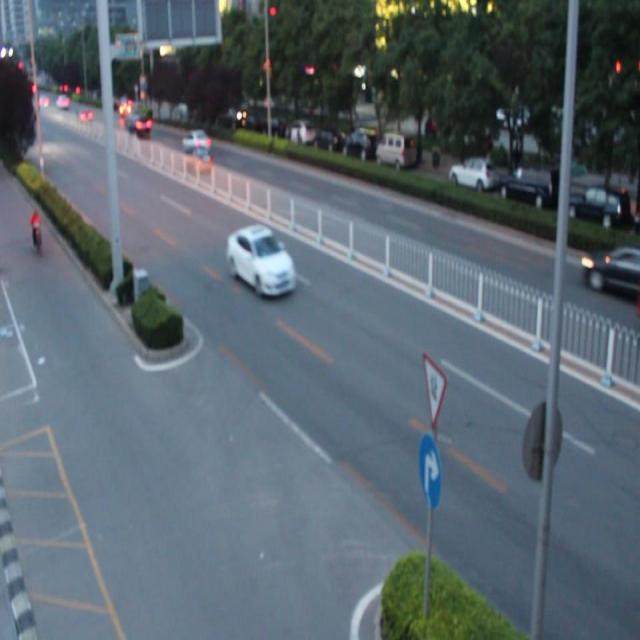car: (226, 231, 295, 296), (578, 244, 630, 294), (182, 128, 212, 156), (182, 147, 211, 174)
